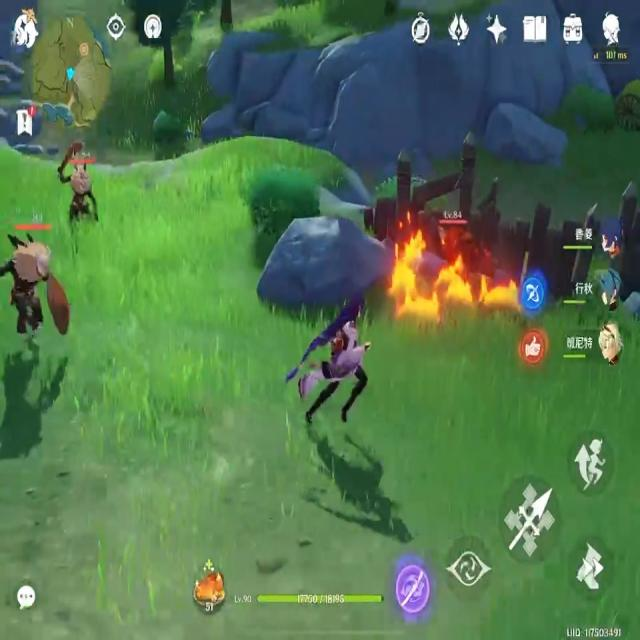genshin-hilichurls: (2, 218, 74, 359), (440, 212, 492, 278), (59, 139, 99, 223)
